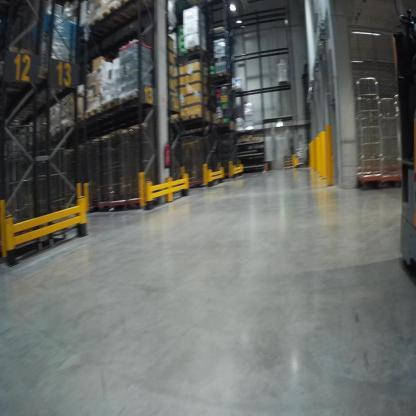pallets: (78, 86, 140, 124)
